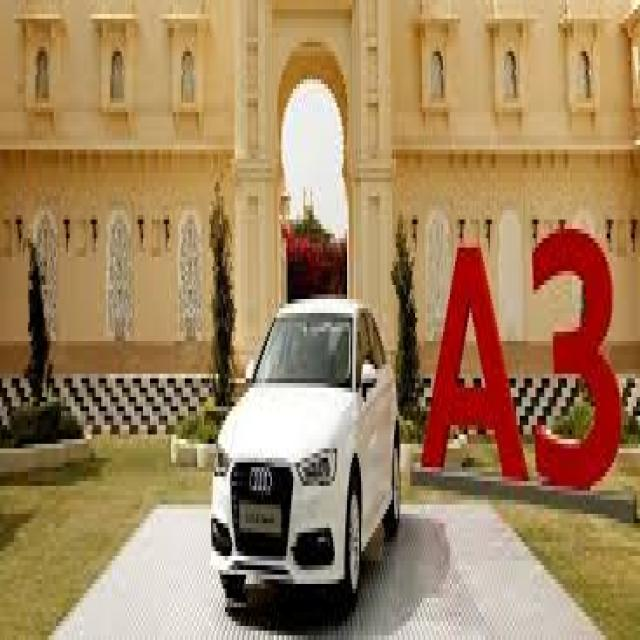Car: (212, 301, 400, 608)
